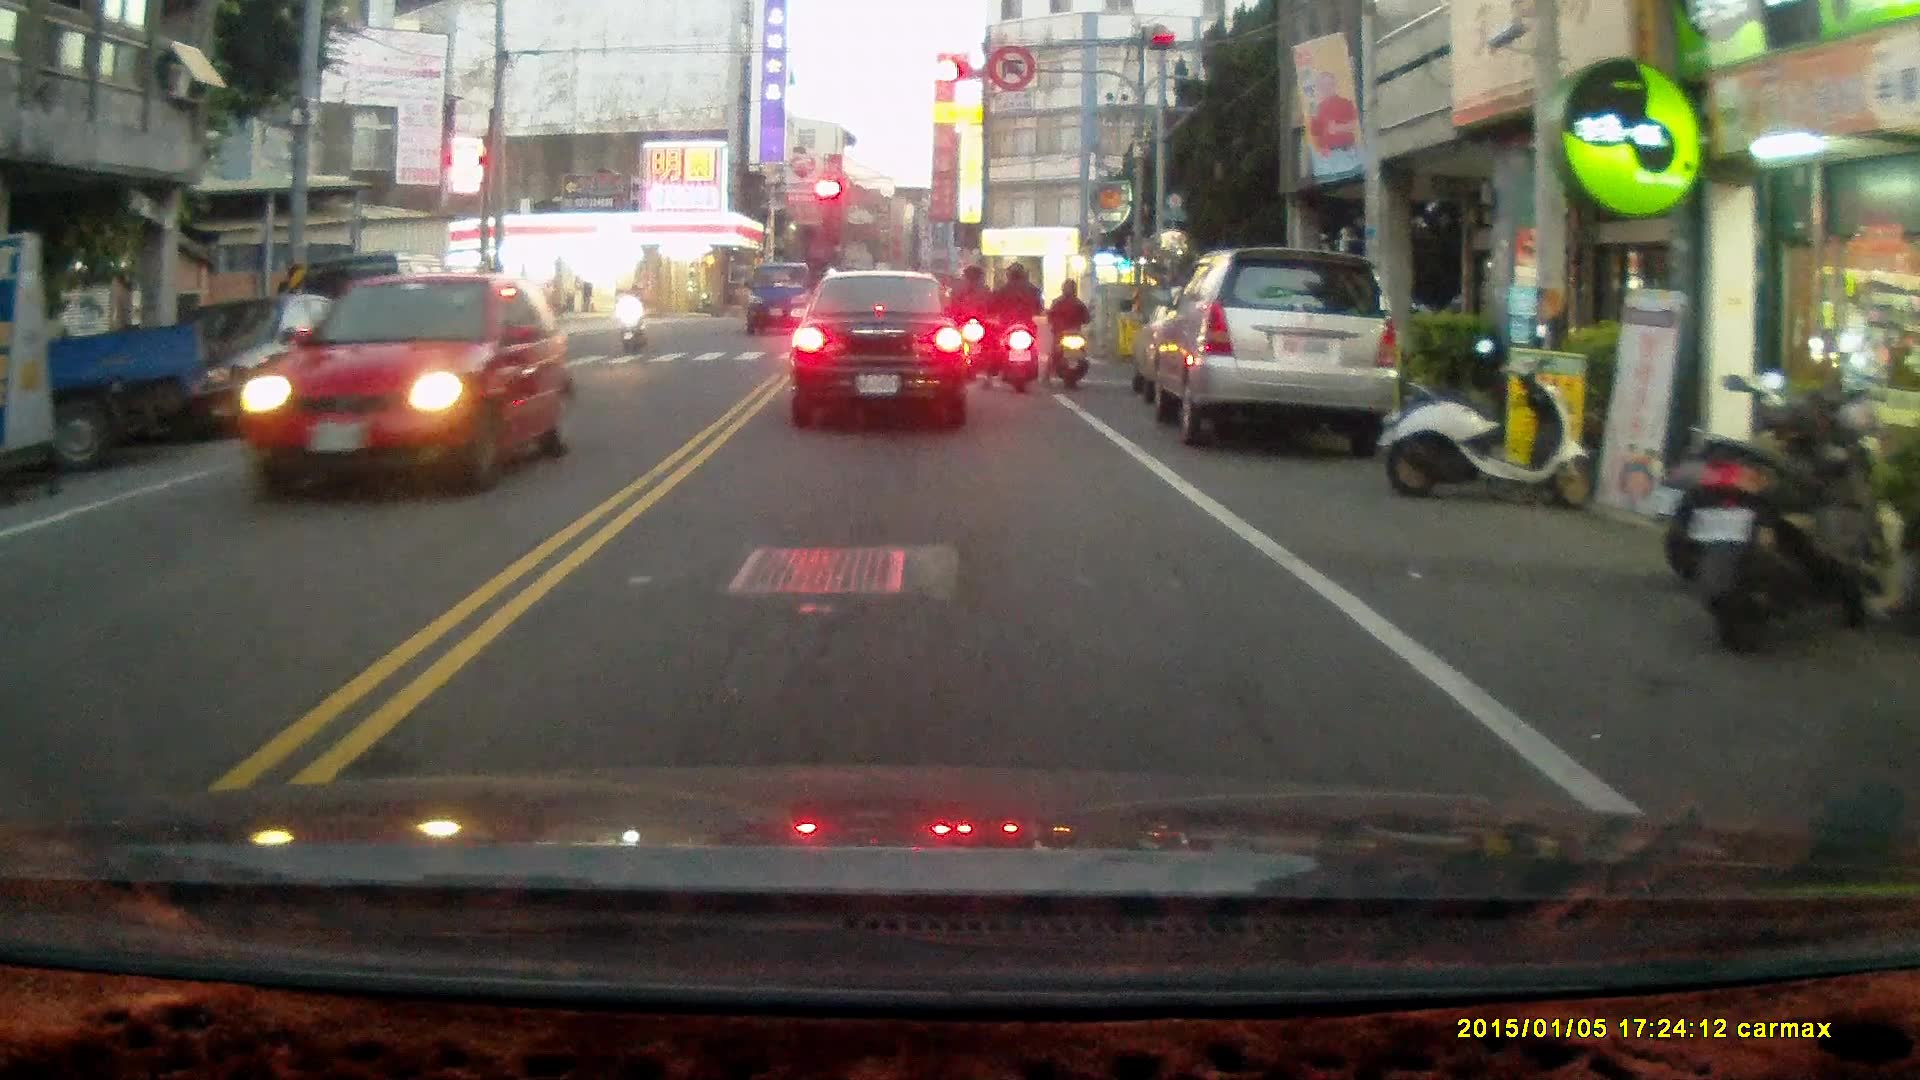rider: (983, 260, 1045, 396), (1041, 275, 1093, 391), (944, 264, 989, 381), (619, 279, 648, 356)
vehicle: (229, 271, 581, 497), (1143, 246, 1408, 451), (120, 294, 376, 434), (790, 268, 972, 431)
